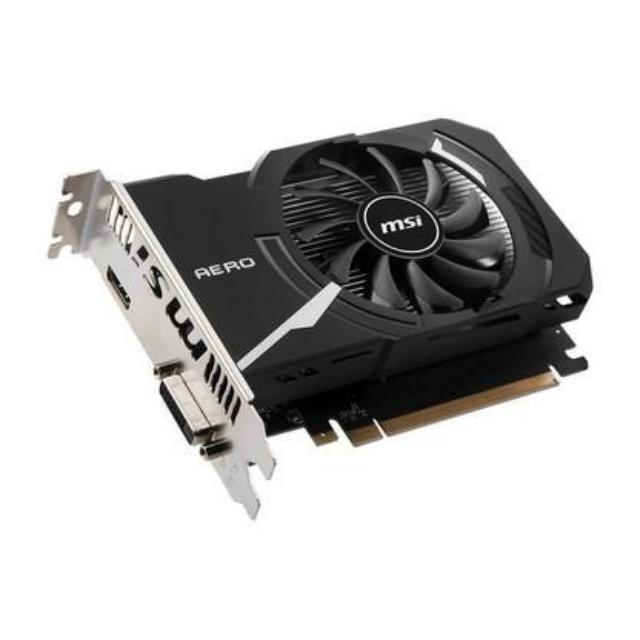GPU: (51, 103, 600, 486)
